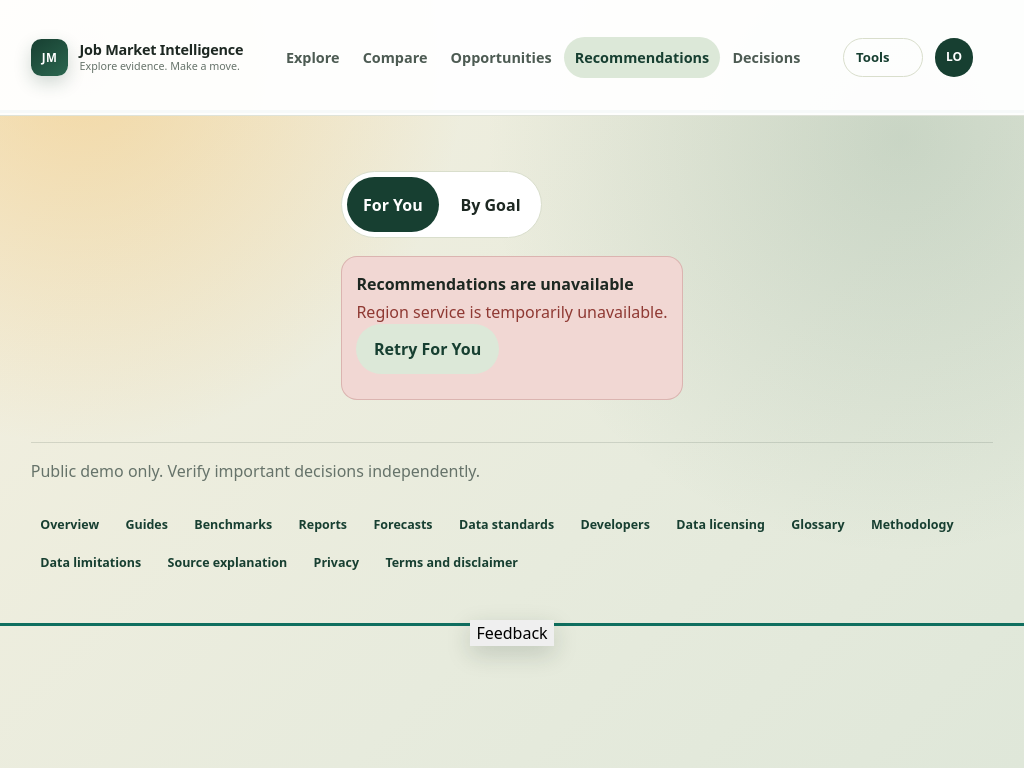
Test: For You region request lifecycle › recovers after an explicit retry when the region service becomes available
The width and height of the screenshot is (1024, 768).
Expected: the message shows "Region service is temporarily unavailable.", left=356, top=301, right=668, bottom=323
Click the button "Retry For You". click: (428, 349)
box: left=356, top=324, right=499, bottom=374
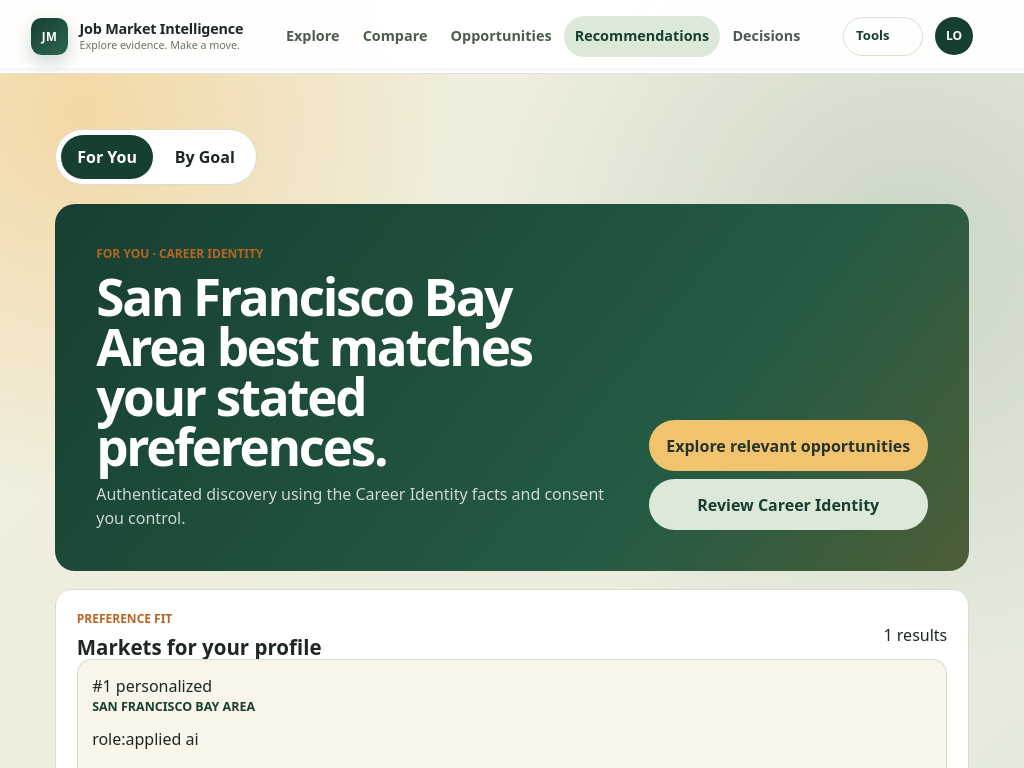
Result: the heading "San Francisco Bay Area best matches your stated preferences." is shown at left=96, top=261, right=532, bottom=481
Result: the message is gone
